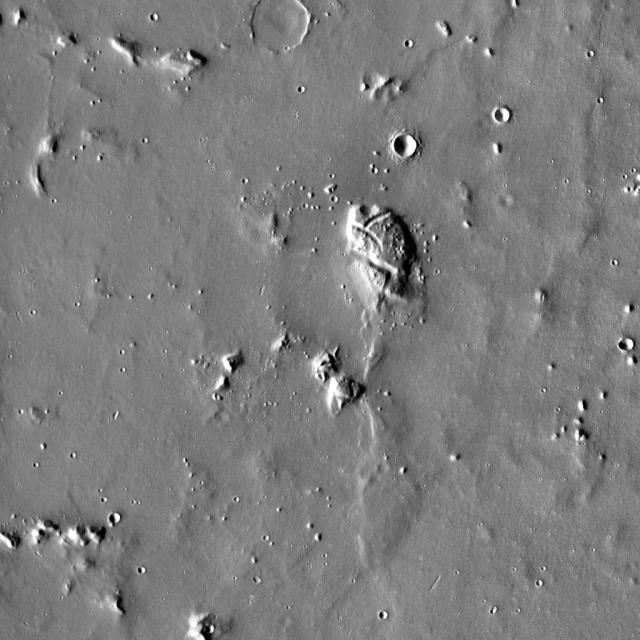crater: (42, 128, 122, 206), (254, 0, 312, 52), (396, 136, 418, 158), (365, 71, 383, 88), (217, 411, 231, 425), (496, 109, 511, 122), (501, 194, 515, 207), (620, 340, 633, 352), (111, 512, 122, 523), (207, 626, 215, 634), (253, 576, 261, 584), (150, 13, 158, 20), (299, 86, 307, 93), (406, 42, 413, 49), (138, 567, 145, 574), (379, 612, 387, 618), (241, 178, 248, 184), (112, 412, 119, 418), (263, 536, 270, 542), (331, 196, 337, 202), (536, 580, 542, 586)
